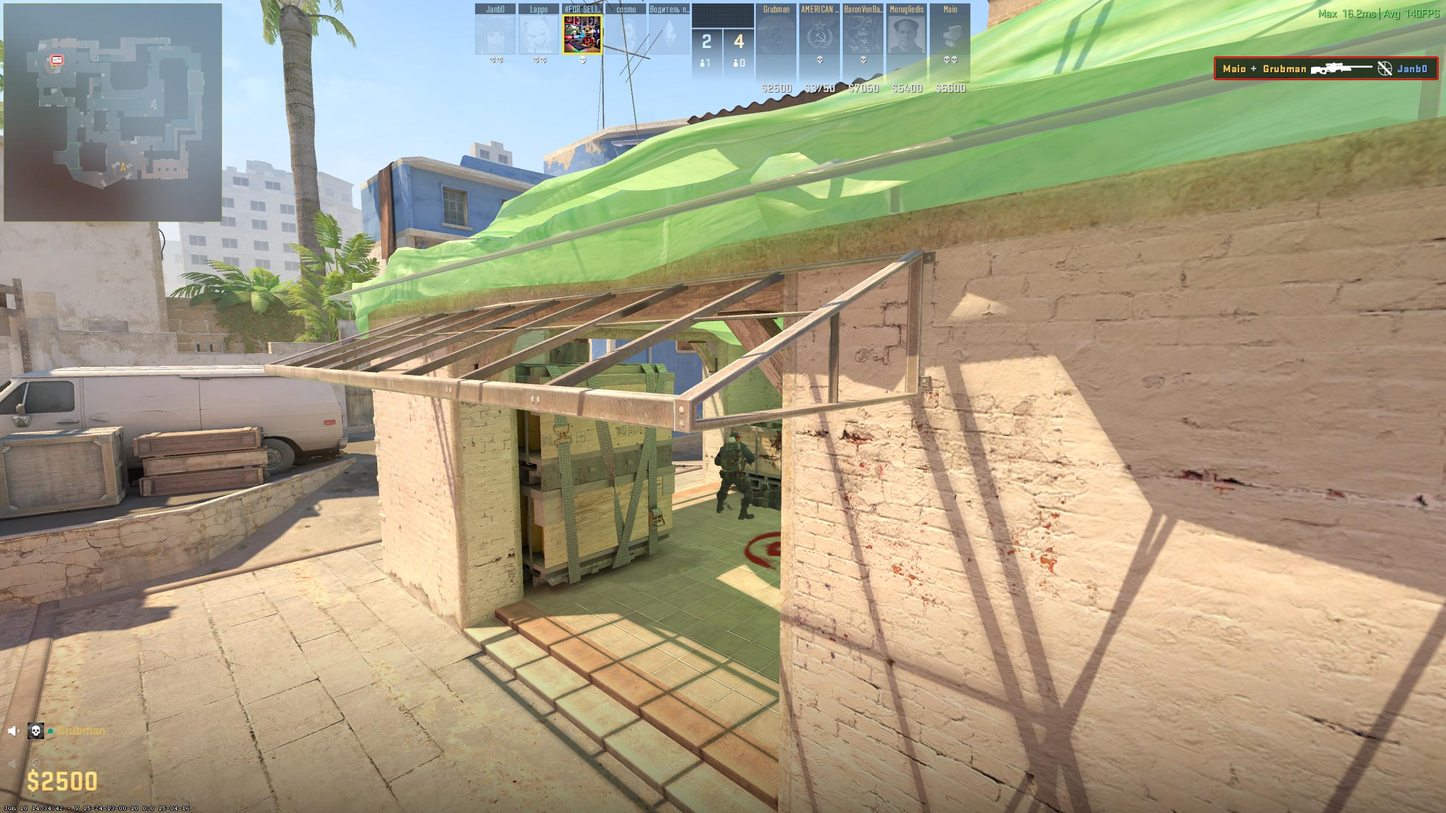CT: (712, 431, 762, 521)
